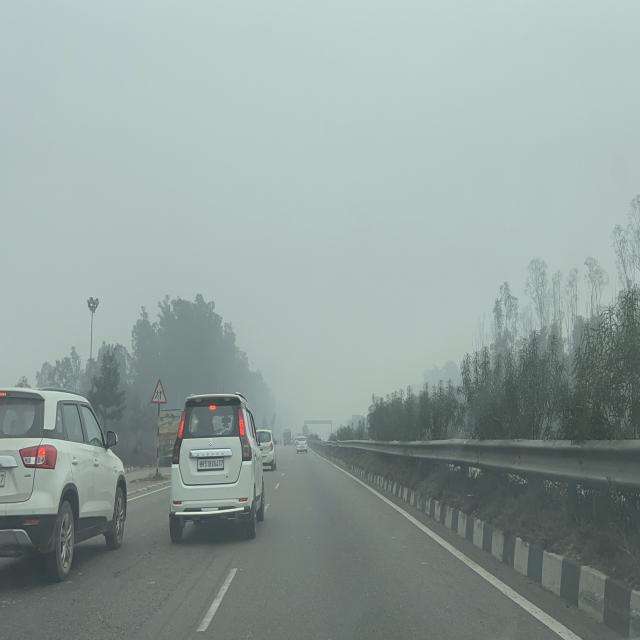WARNING: (150, 378, 168, 405)
